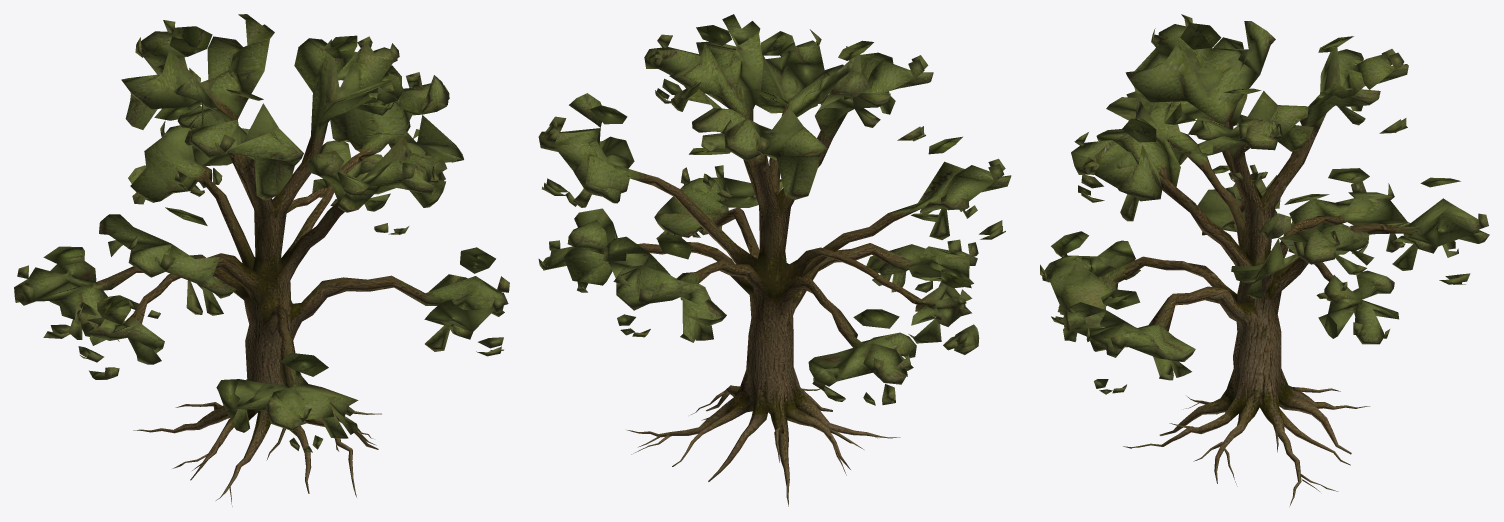
File: tripo_oak_4k.glb
3 renders of one model, left to right at view 1: azimuth 30°, elevation 25°; view 2: azimuth 150°, elevation 25°; view 3: azimuth 270°, elevation 25°, orthographic. The views are drawn at different scales.
Visible parts, largest first — view 1: tripo_node_3494a16f-db21-4c1c-b605-6e245fe564a4; view 2: tripo_node_3494a16f-db21-4c1c-b605-6e245fe564a4; view 3: tripo_node_3494a16f-db21-4c1c-b605-6e245fe564a4.
Part boxes in pixels (x1,y1,x2,y2): tripo_node_3494a16f-db21-4c1c-b605-6e245fe564a4: [14, 14, 509, 506]; tripo_node_3494a16f-db21-4c1c-b605-6e245fe564a4: [538, 14, 1011, 506]; tripo_node_3494a16f-db21-4c1c-b605-6e245fe564a4: [1040, 14, 1489, 506].
Size of the model in its own units: 0.9863 by 0.959 by 0.998.
Materials: 1 (1 with a texture image).
